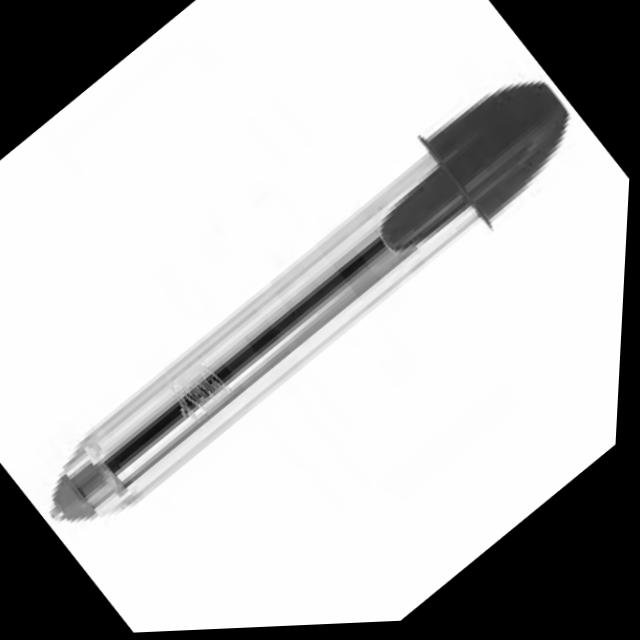pen: (4, 45, 600, 563)
